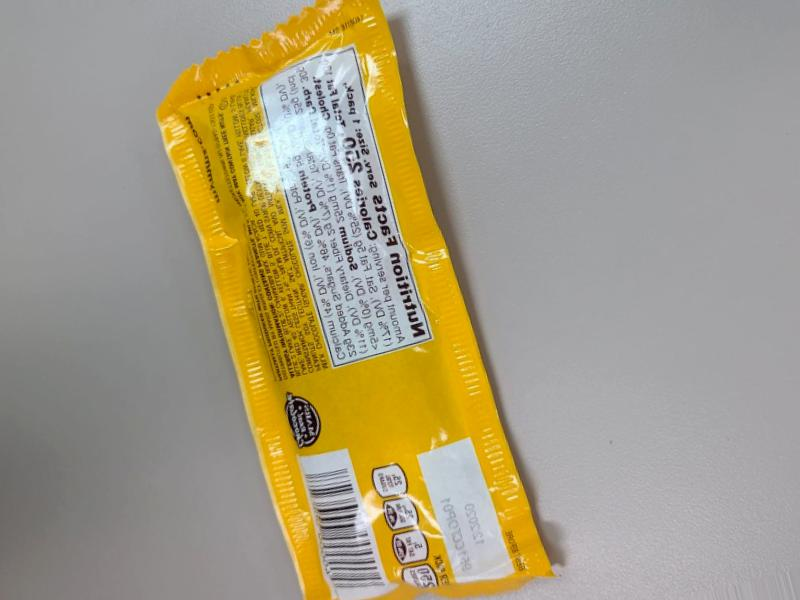m&m: (117, 67, 613, 578)
